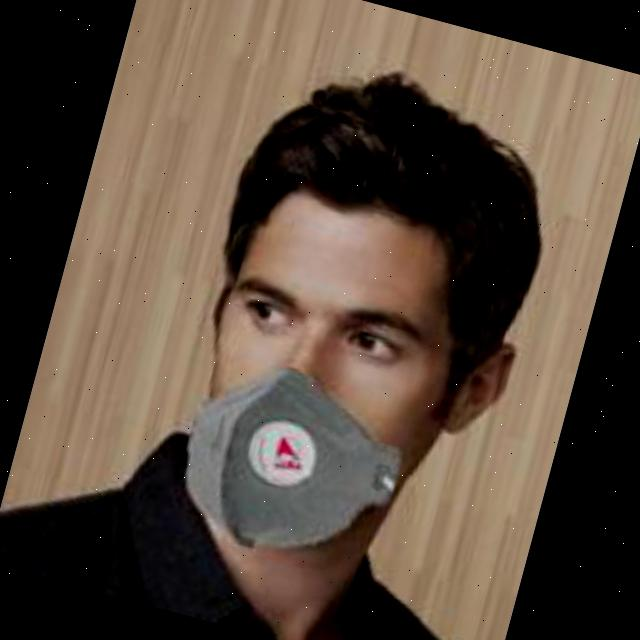suspicion: (98, 54, 550, 578)
